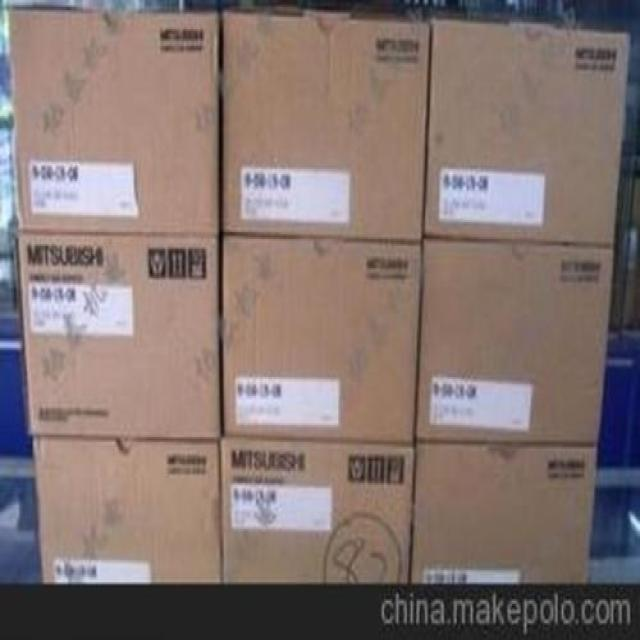box: (6, 7, 220, 236), (424, 14, 632, 249), (222, 7, 428, 242), (16, 234, 221, 439), (221, 234, 421, 444), (415, 238, 612, 445), (222, 434, 415, 582), (30, 439, 222, 581), (411, 445, 598, 584)
